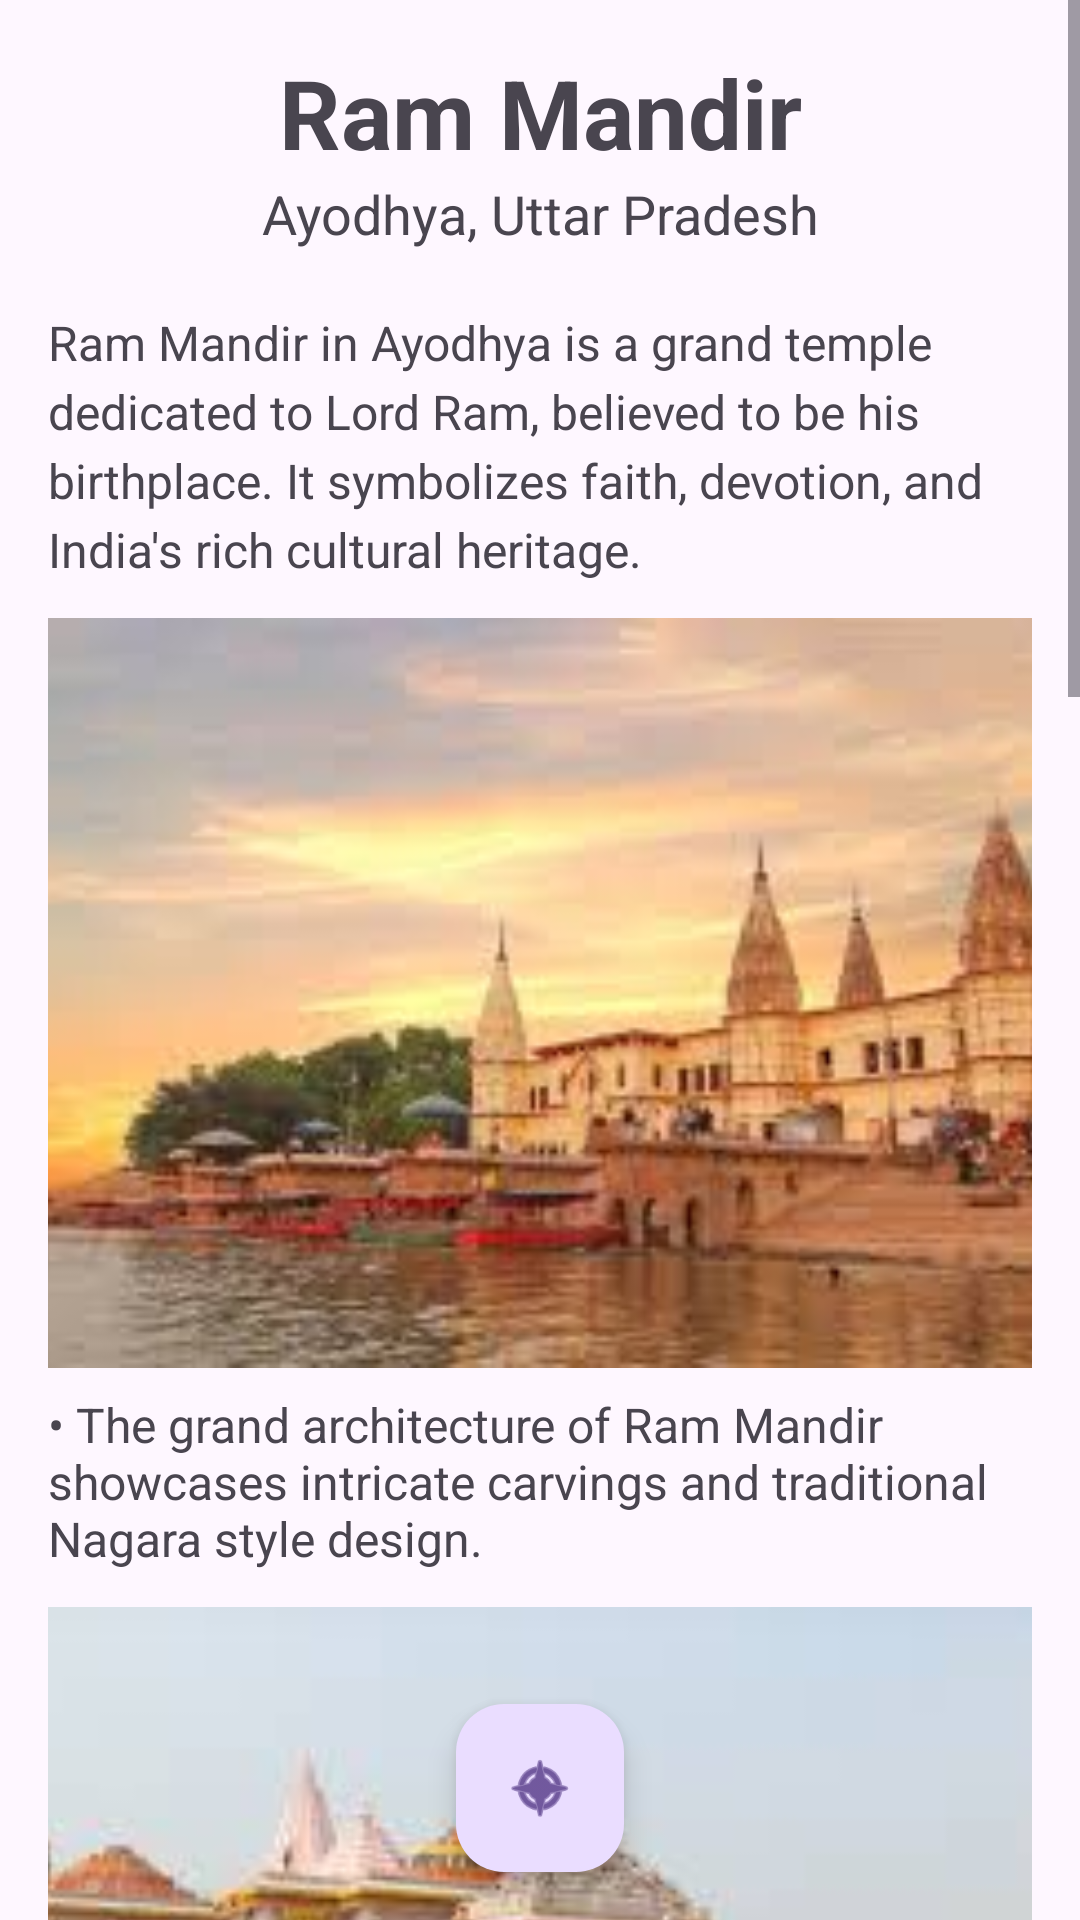

Icons on this 1080*1920 Android screen, each with the point to tap as [x,y]:
compass: [540,1788]
